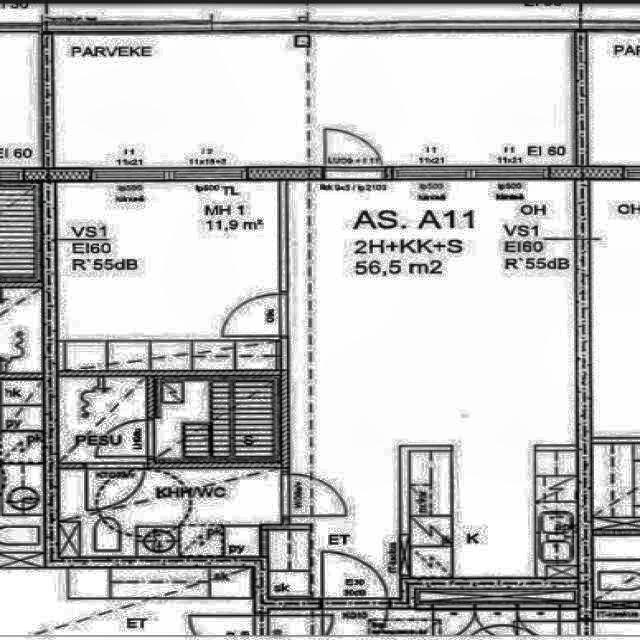room: (54, 32, 575, 167), (58, 181, 280, 371), (59, 469, 282, 557), (58, 377, 147, 463)
